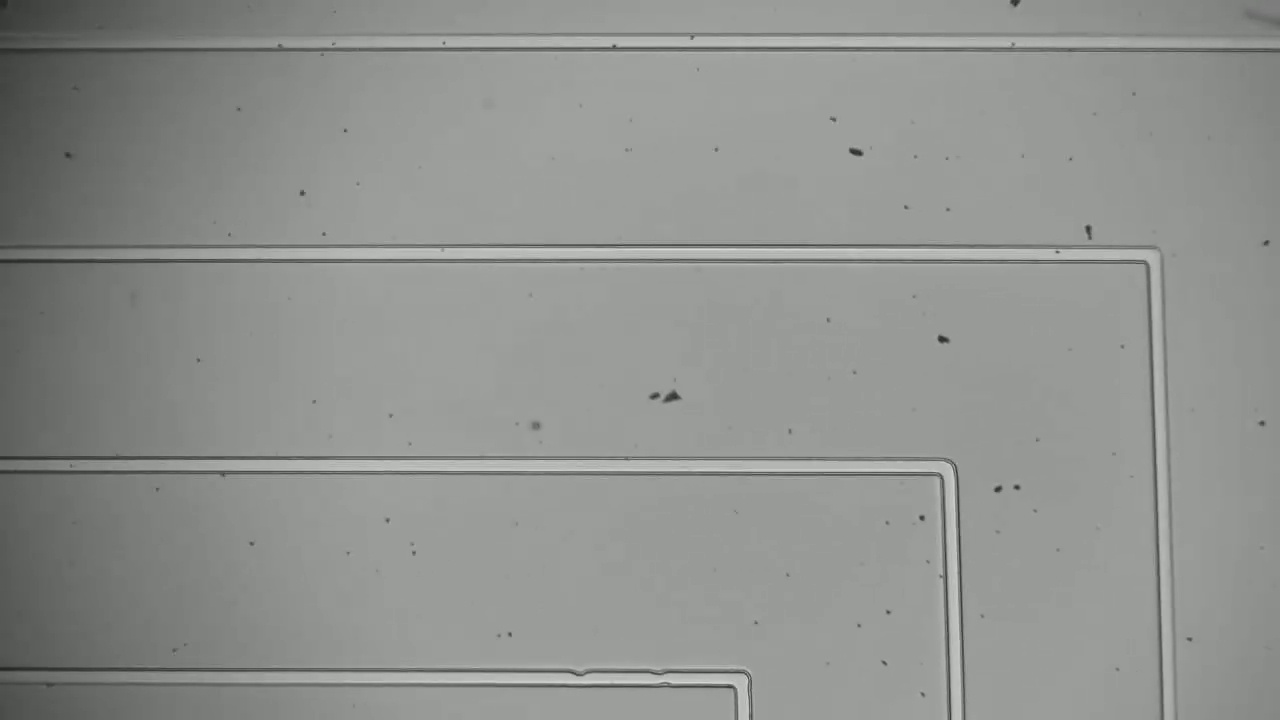edge_bite: (561, 660, 596, 694), (640, 663, 675, 693)
